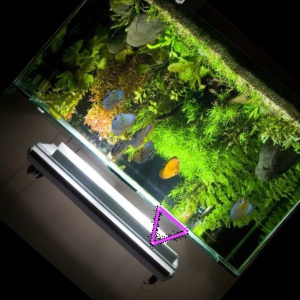triangle: (147, 202, 192, 247)
